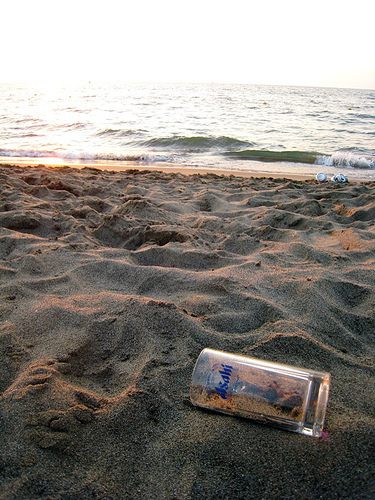litter: (185, 344, 333, 441), (333, 173, 349, 183), (315, 173, 328, 180)
